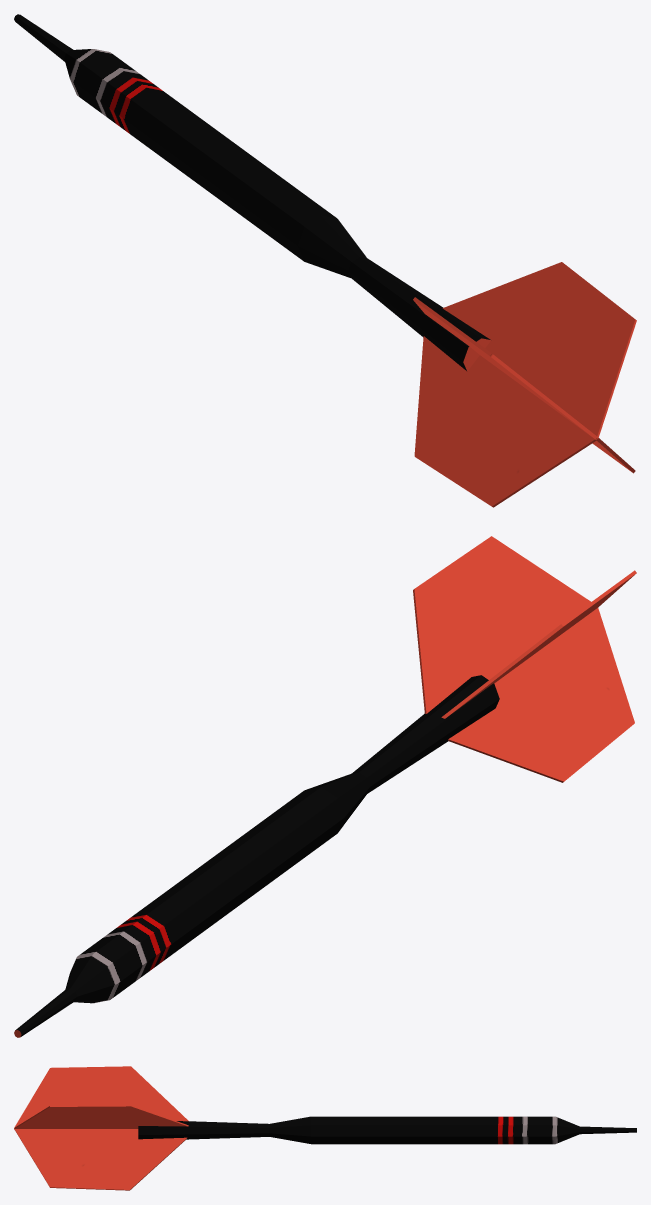
File: dardo_gimnasio.fbx
3 renders of one model, top to bottom at view 1: azimuth 30°, elevation 25°; view 2: azimuth 150°, elevation 25°; view 3: azimuth 270°, elevation 25°, orthographic. The views are drawn at different scales.
Visible parts, largest first — view 1: dardo; view 2: dardo; view 3: dardo.
Part boxes in pixels (x1,y1,x2,y2): dardo: [14, 14, 636, 507]; dardo: [14, 536, 636, 1037]; dardo: [14, 1066, 636, 1190].
Size of the model in its own units: 3 by 3.04 by 20.
Materials: 1 (1 with a texture image).
